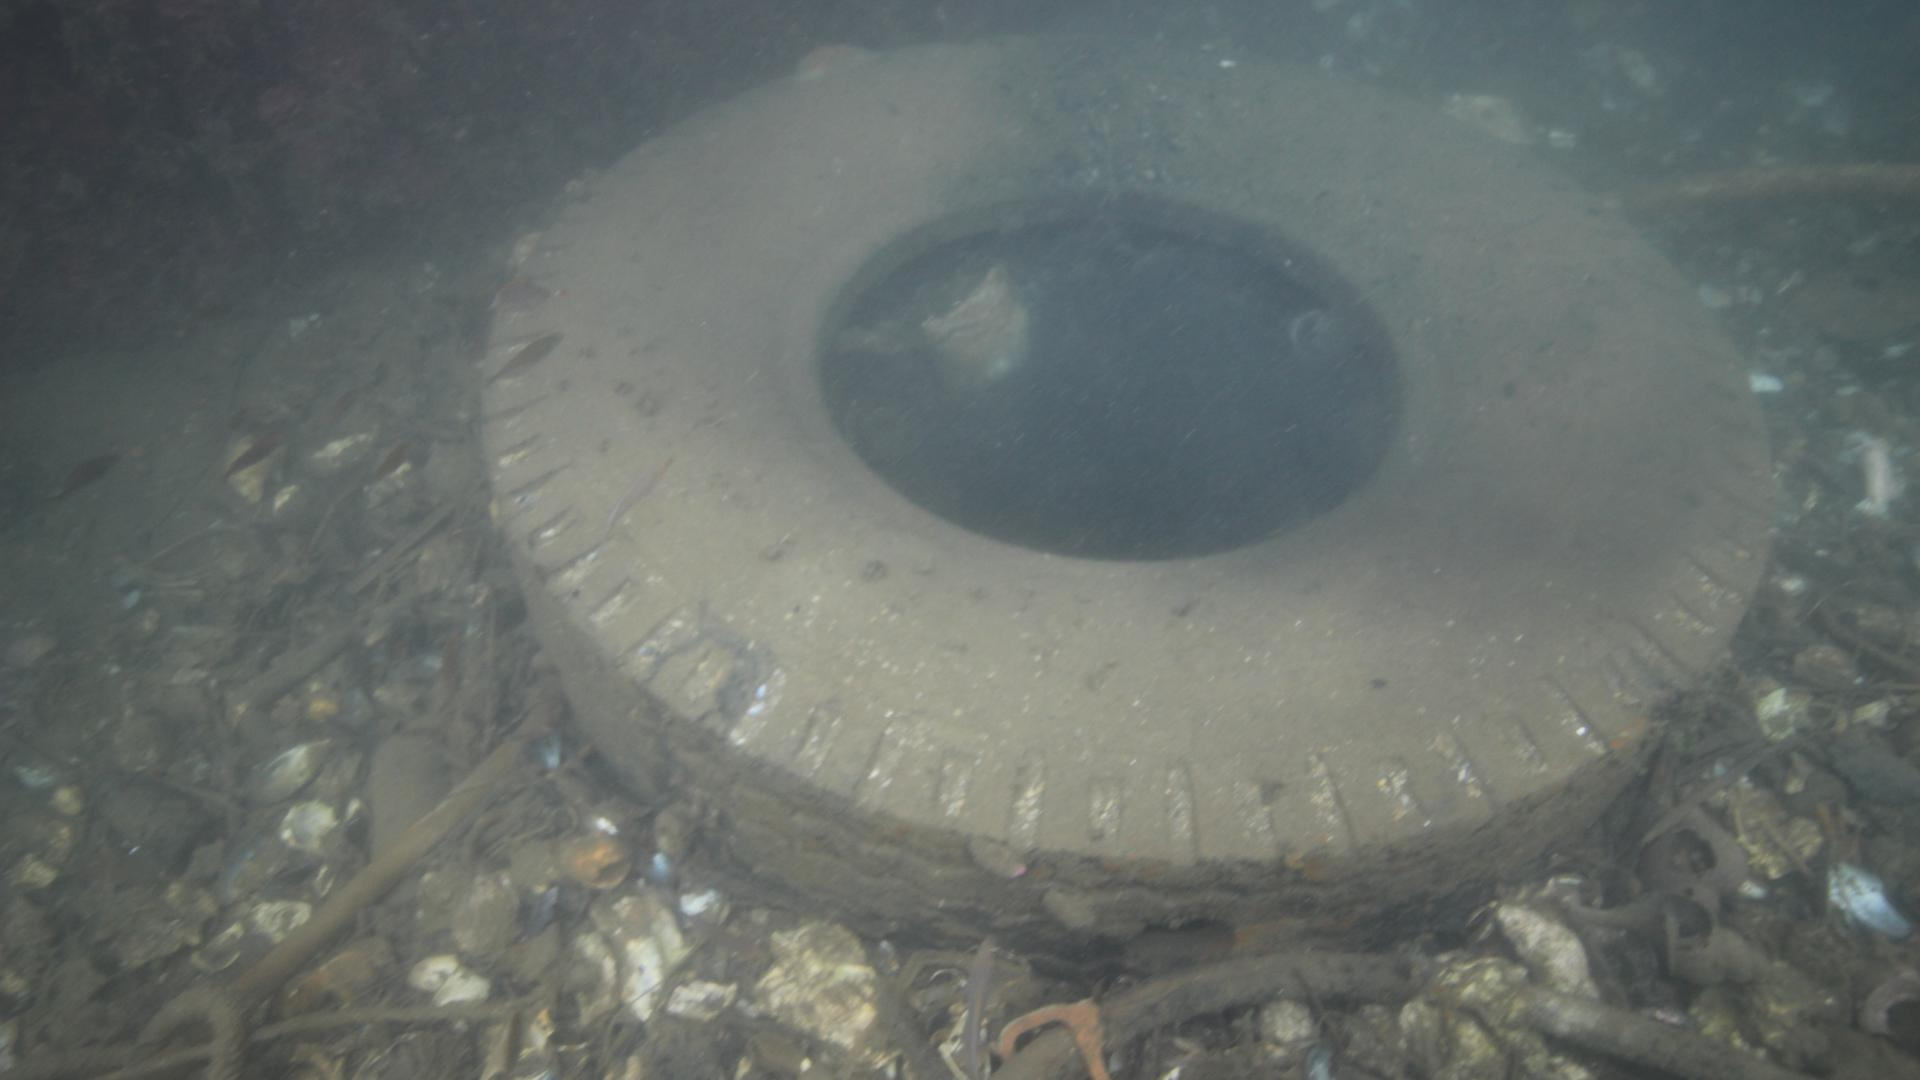tire: (480, 34, 1775, 997)
